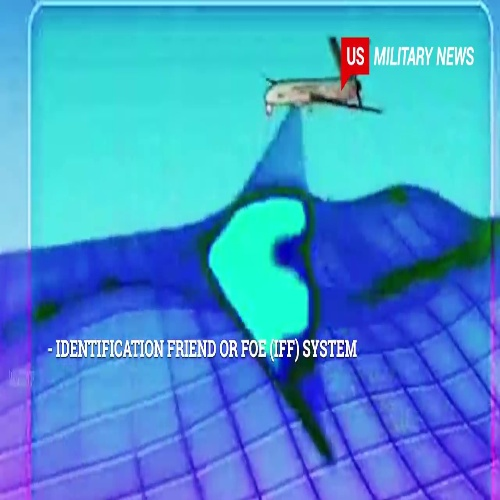uav448: (257, 37, 385, 116)
